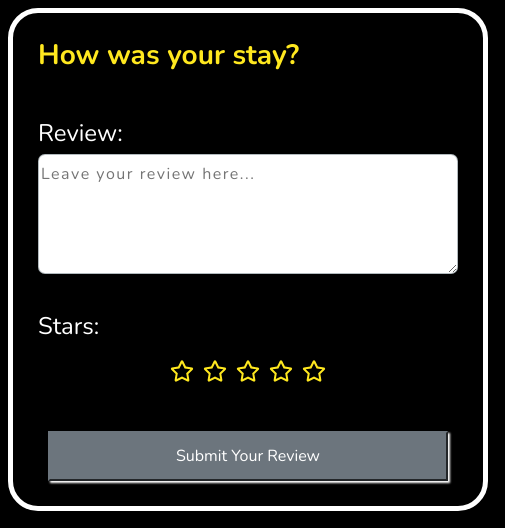
it: CreateReview star rating › stars are a labelled radio group and enable submit with a review
The image size is (505, 528).
Check: the button "Submit Your Review" is disabled, box [48, 432, 448, 482]
Check: the element named "Stars:" is shown, box [168, 358, 328, 386]
Type "Freezing but cozy!" into the text box with placeholder "Leave your review here..." at (248, 214), box [38, 154, 458, 274]
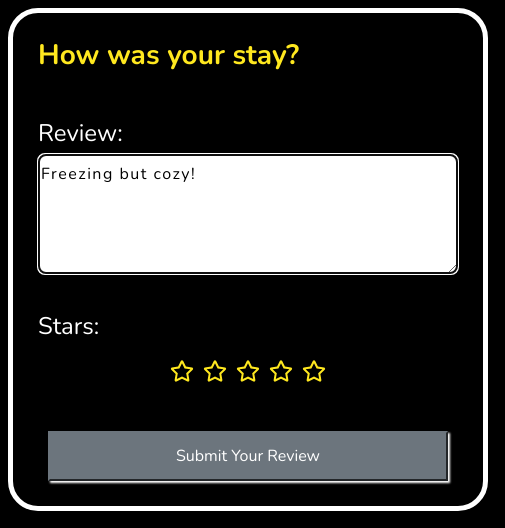
Click the radio button named "4 stars" at (281, 372), box [267, 358, 295, 386]
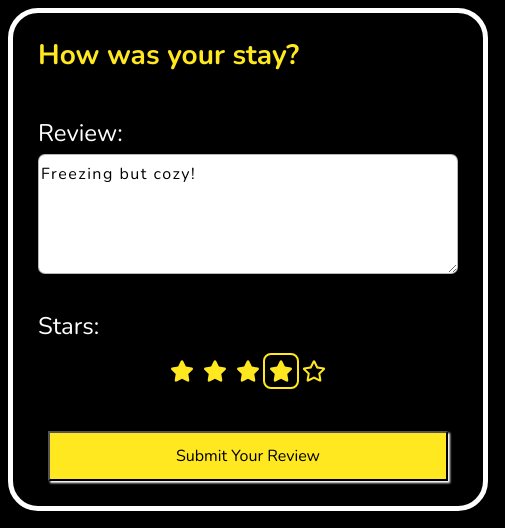
Check: the button "Submit Your Review" is enabled, box [48, 432, 448, 482]
